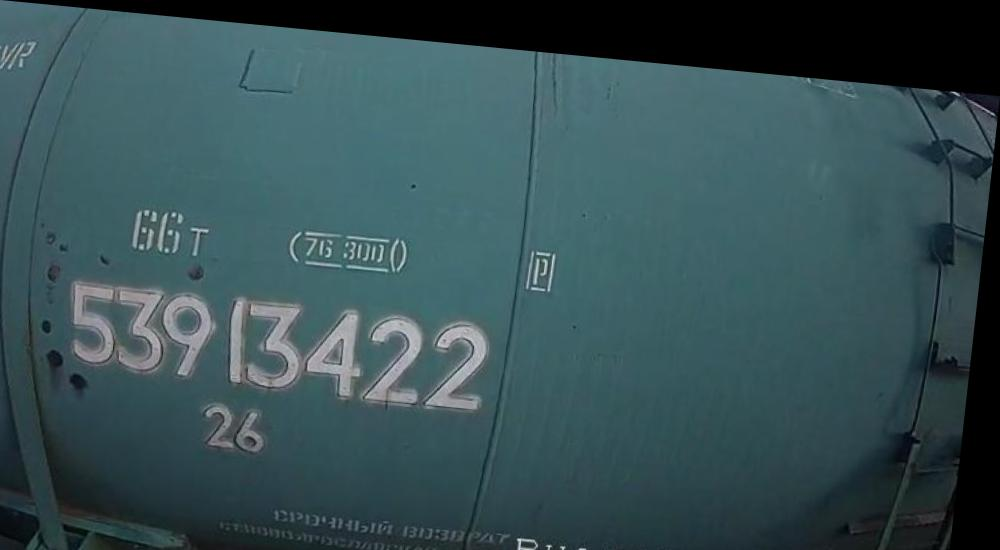Wagon-number: (68, 269, 505, 409)
